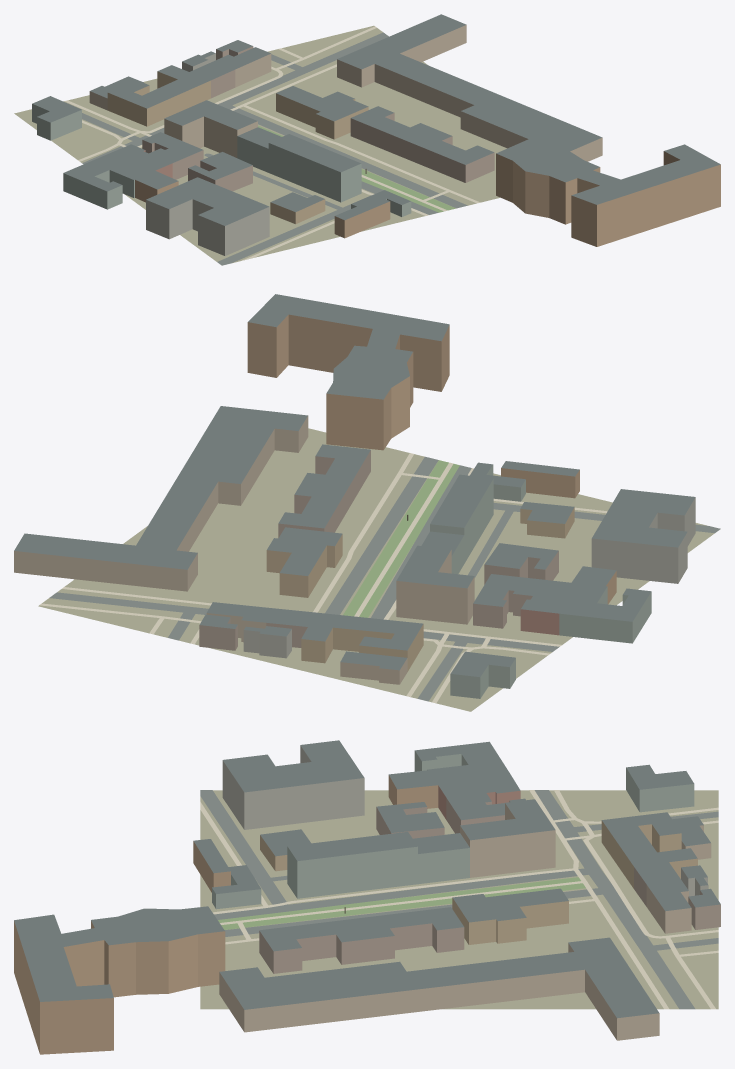
The model's file is sector--2_-7.glb.
The picture shows the model from 3 angles, top to bottom: view 1: azimuth 30°, elevation 25°; view 2: azimuth 150°, elevation 25°; view 3: azimuth 270°, elevation 25°; orthographic projection. The views are drawn at different scales.
Parts seen in each view (by area): view 1: -2:-7-facade, -2:-7-roof, -2:-7-ground, -2:-7-road, -2:-7-paving, -2:-7-park; view 2: -2:-7-facade, -2:-7-roof, -2:-7-ground, -2:-7-road, -2:-7-paving, -2:-7-park; view 3: -2:-7-facade, -2:-7-roof, -2:-7-ground, -2:-7-road, -2:-7-paving, -2:-7-park.
Part boxes in pixels (x1=…): -2:-7-facade: x1=32, y1=25, x2=720, y2=255; -2:-7-roof: x1=32, y1=14, x2=720, y2=225; -2:-7-ground: x1=14, y1=25, x2=506, y2=263; -2:-7-road: x1=82, y1=32, x2=467, y2=265; -2:-7-paving: x1=64, y1=26, x2=480, y2=260; -2:-7-park: x1=258, y1=125, x2=455, y2=212; -2:-7-facade: x1=14, y1=314, x2=695, y2=698; -2:-7-roof: x1=14, y1=294, x2=695, y2=676; -2:-7-ground: x1=38, y1=428, x2=714, y2=711; -2:-7-road: x1=49, y1=456, x2=720, y2=701; -2:-7-paving: x1=39, y1=453, x2=697, y2=703; -2:-7-park: x1=343, y1=460, x2=459, y2=617; -2:-7-facade: x1=14, y1=745, x2=720, y2=1054; -2:-7-roof: x1=14, y1=740, x2=720, y2=1018; -2:-7-ground: x1=200, y1=790, x2=718, y2=1009; -2:-7-road: x1=200, y1=790, x2=718, y2=1009; -2:-7-paving: x1=200, y1=790, x2=718, y2=1009; -2:-7-park: x1=218, y1=877, x2=585, y2=929.
Bounding box in the file's own units: 265 × 22.4 × 273.
